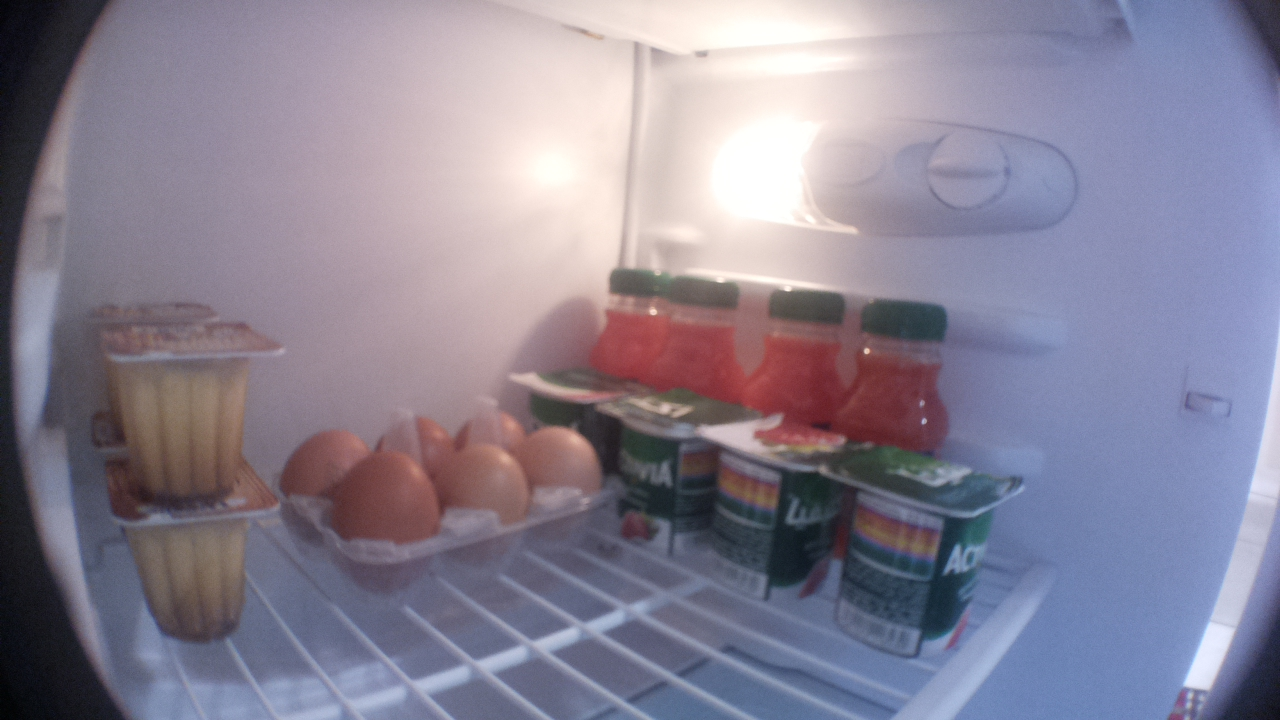caramel: (90, 315, 285, 504), (98, 457, 293, 641), (81, 294, 224, 318)
egg: (329, 446, 445, 542), (437, 443, 528, 527), (519, 421, 608, 505), (272, 428, 370, 495), (380, 408, 451, 476), (448, 405, 535, 454)
juice: (827, 298, 963, 438), (742, 279, 852, 416), (644, 265, 749, 394), (588, 256, 666, 376)
yoghurt: (828, 433, 1026, 663), (700, 412, 845, 605), (593, 390, 739, 561), (509, 362, 633, 430)
